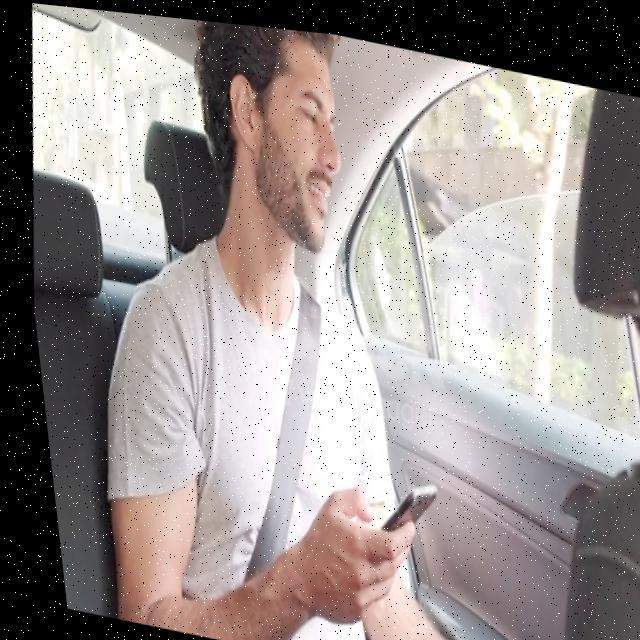PhoneCall: (360, 460, 434, 553)
